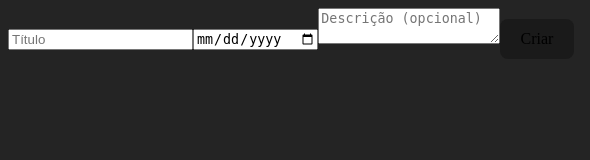
CriarLembrete Component › deve exibir erro quando campos obrigatórios não forem preenchidos
Click the button "Criar": (537, 39) [500,19,574,59]
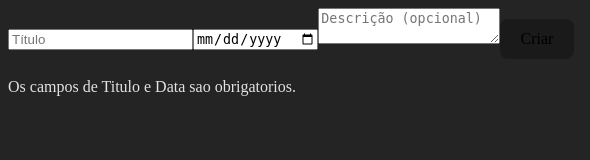
expect the text "Os campos de Titulo e Data sao obrigatorios." is shown: met, box [8,78,296,95]
